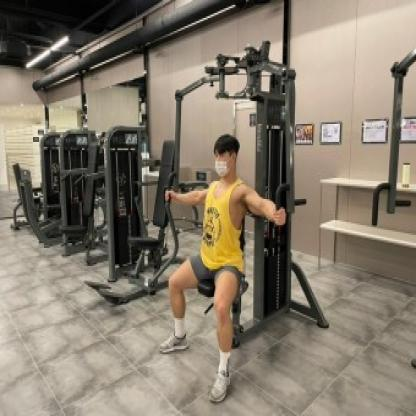chest fly machine: (143, 1, 334, 416)
